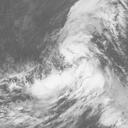cyclone: (53, 39, 105, 92)
